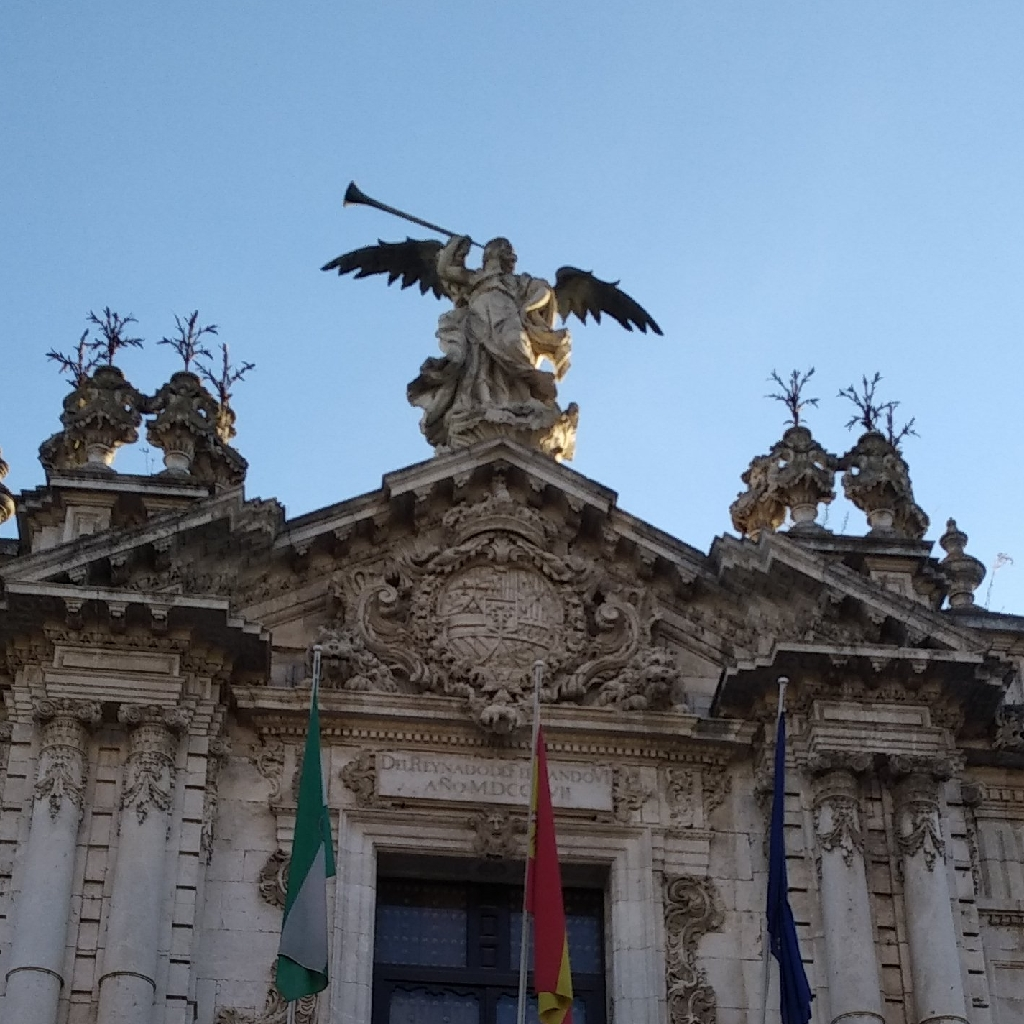fronton-partido: (1, 437, 998, 682)
vano-adintelado: (333, 800, 662, 1024)
